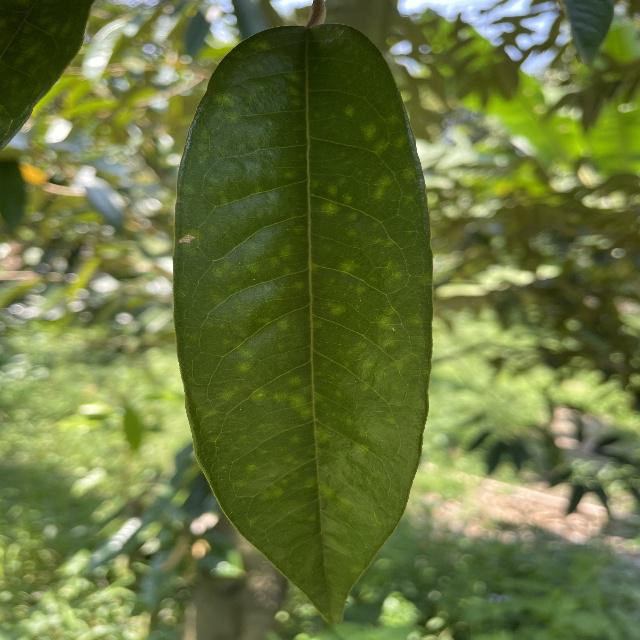Leaf Spot: (161, 11, 446, 636)
